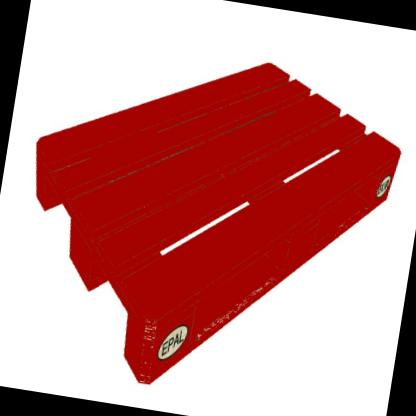BoxFace: (32, 57, 404, 394)
